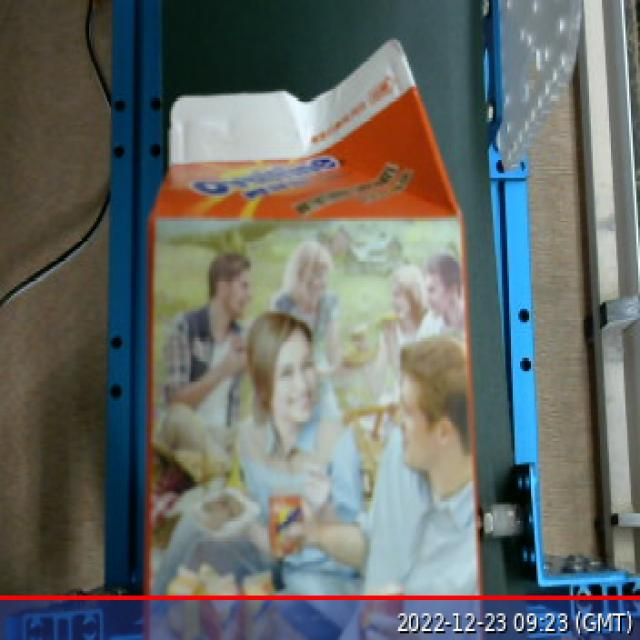non_white_jug: (140, 38, 501, 640)
